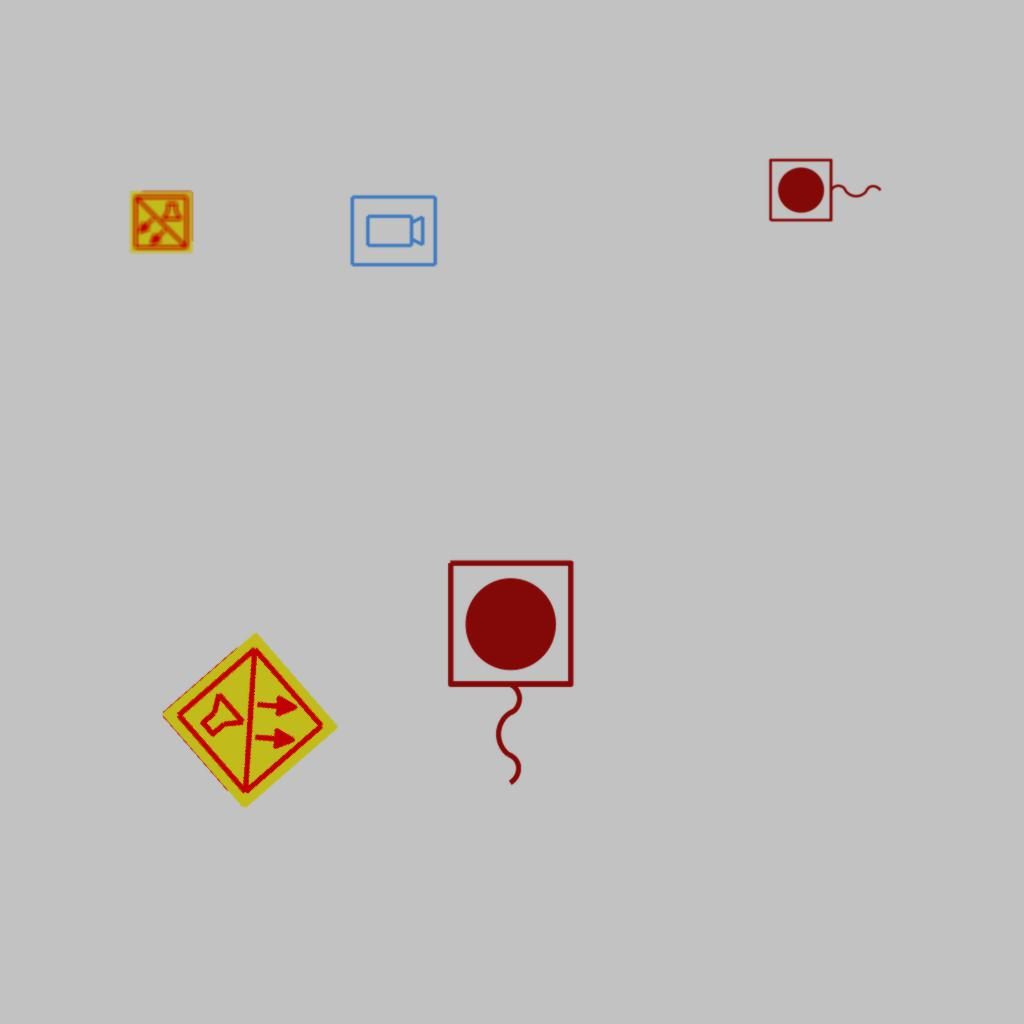KFO_Kamera_mit_Festobjektiv: (348, 193, 439, 270)
OKW_Multisensormelder_(Kombination_optischer_Rauch-Kahlenmonoxid_Waerme-Melder): (156, 627, 344, 815), (128, 189, 194, 255)
Zugtaster: (437, 552, 581, 796), (765, 155, 887, 227)
